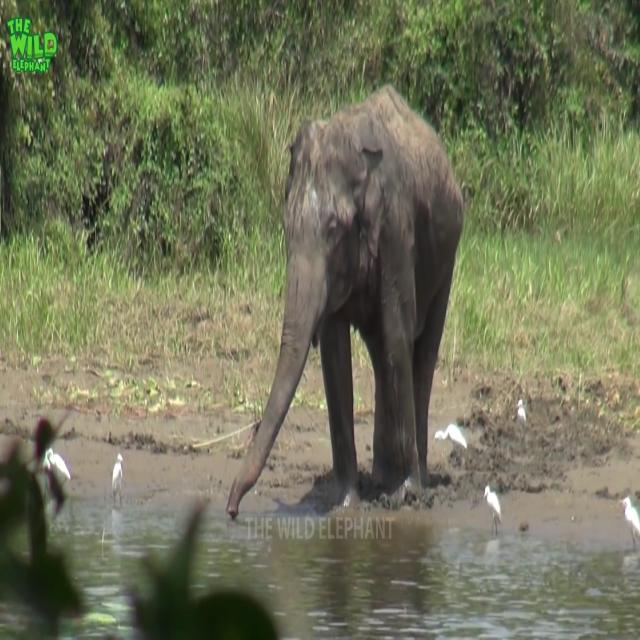Elephant: (226, 82, 464, 520)
